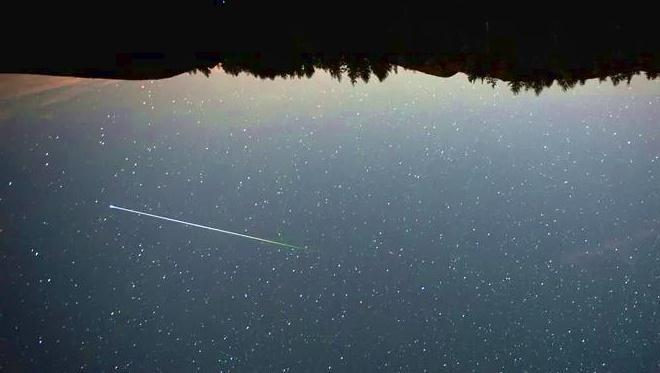meteorite: (95, 199, 314, 253)
